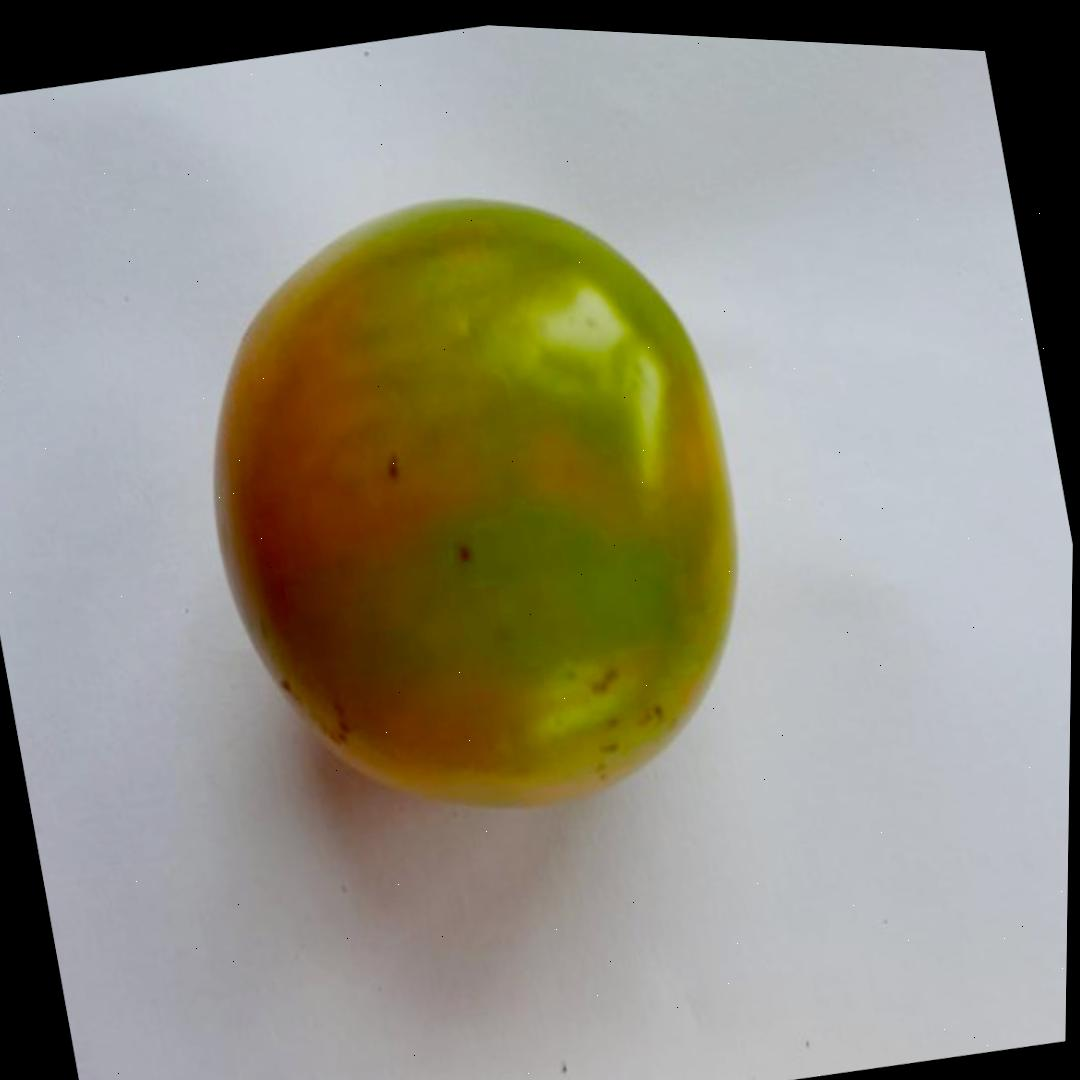setengah_matang: (151, 133, 798, 877)
